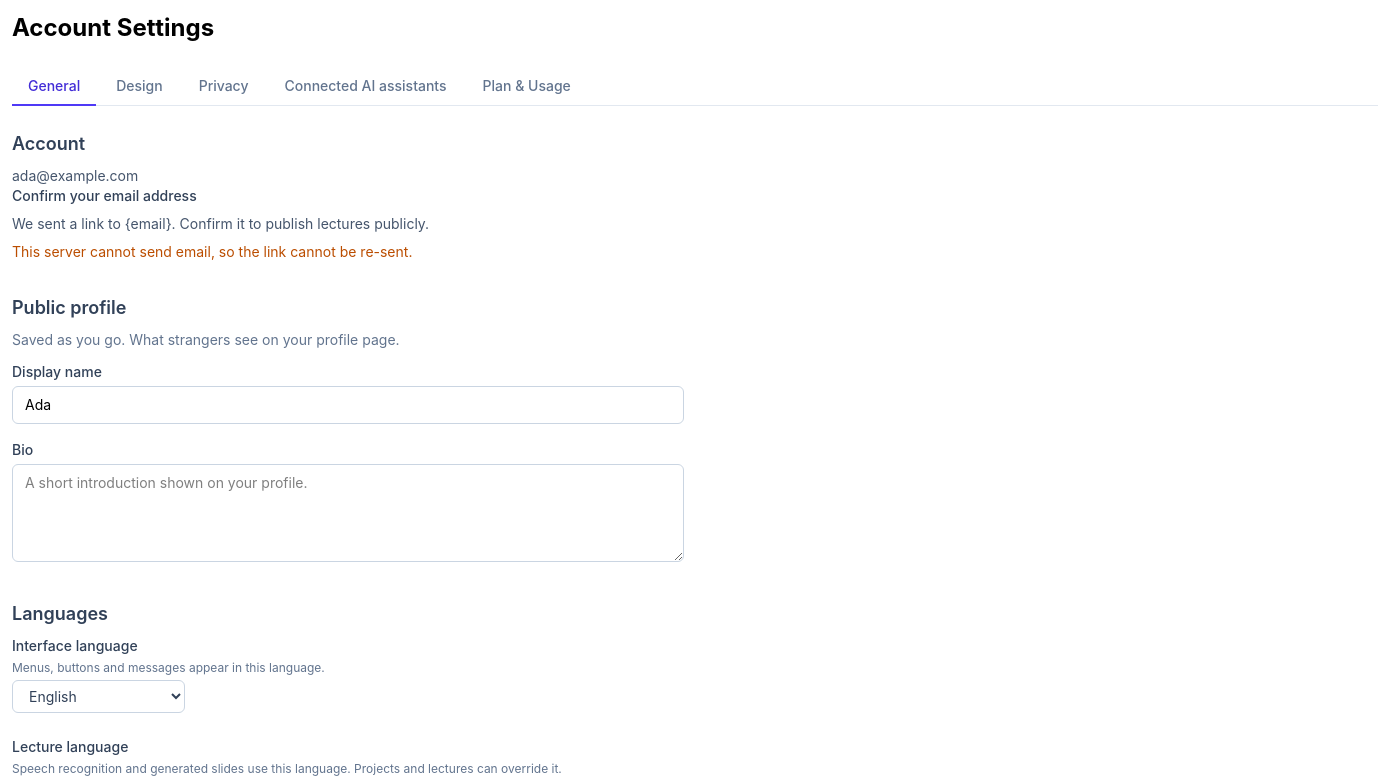
AccountSettingsPage › no longer renders the assistants panel on the Privacy tab
This screenshot has width=1378, height=780.
Click the tab "Privacy".
click(224, 87)  # box [183,68,264,106]
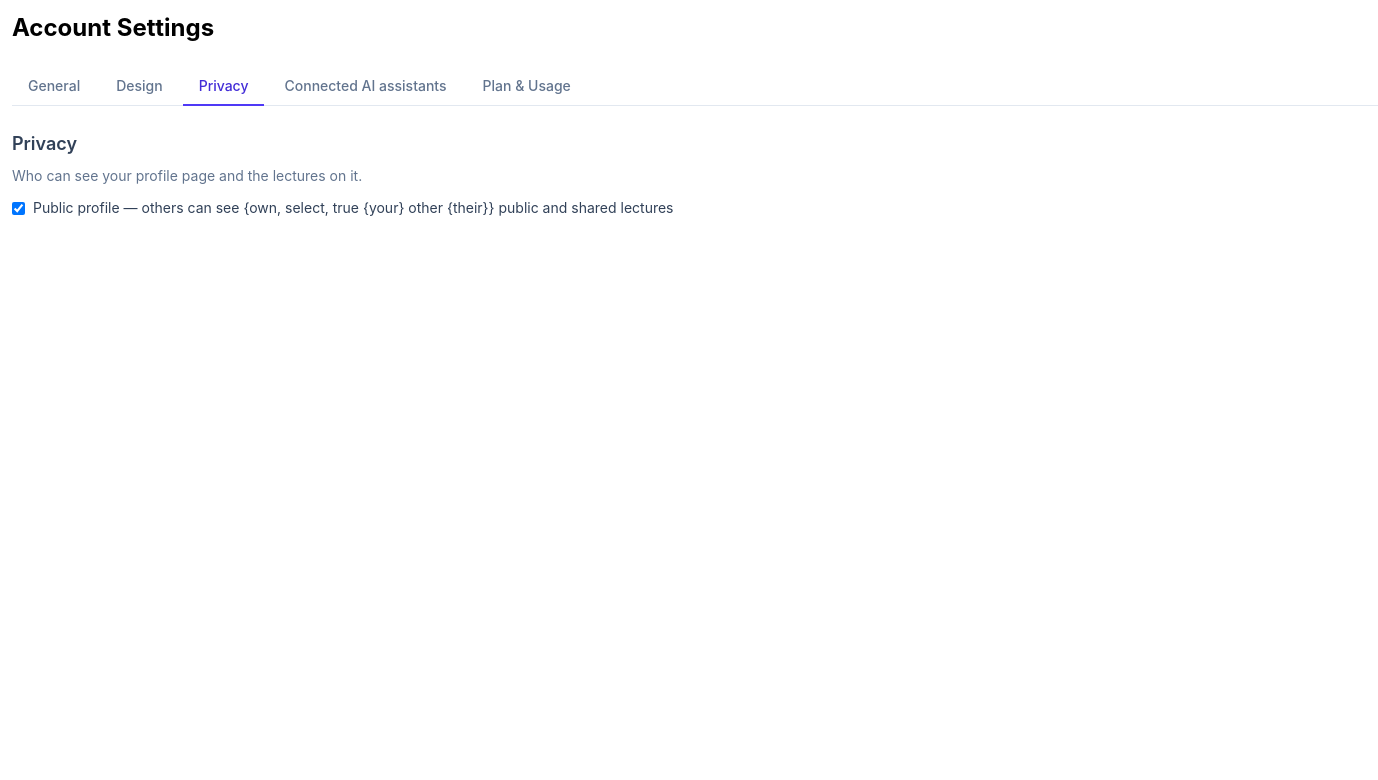
Now the checkbox labelled "Public profile" is shown, box [12,202,25,214]
